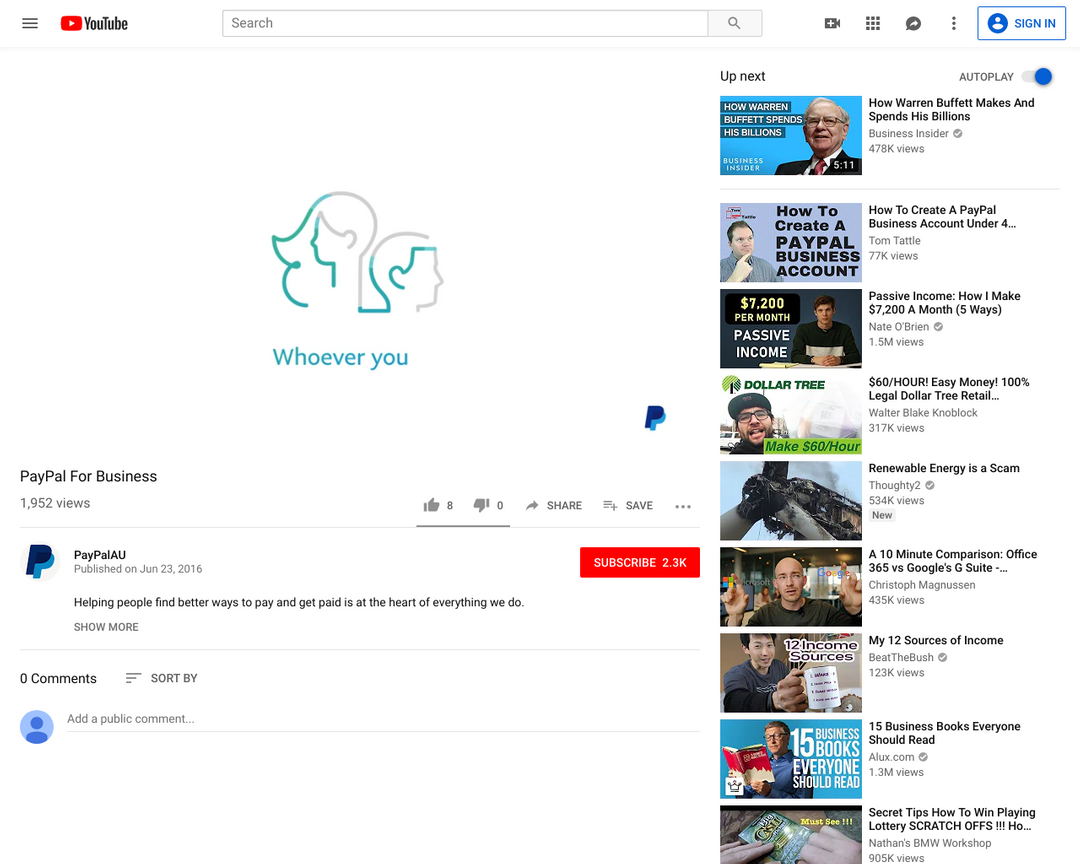Paypal: (487, 134, 596, 168)
